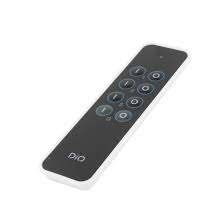remote control: (33, 22, 193, 190)
